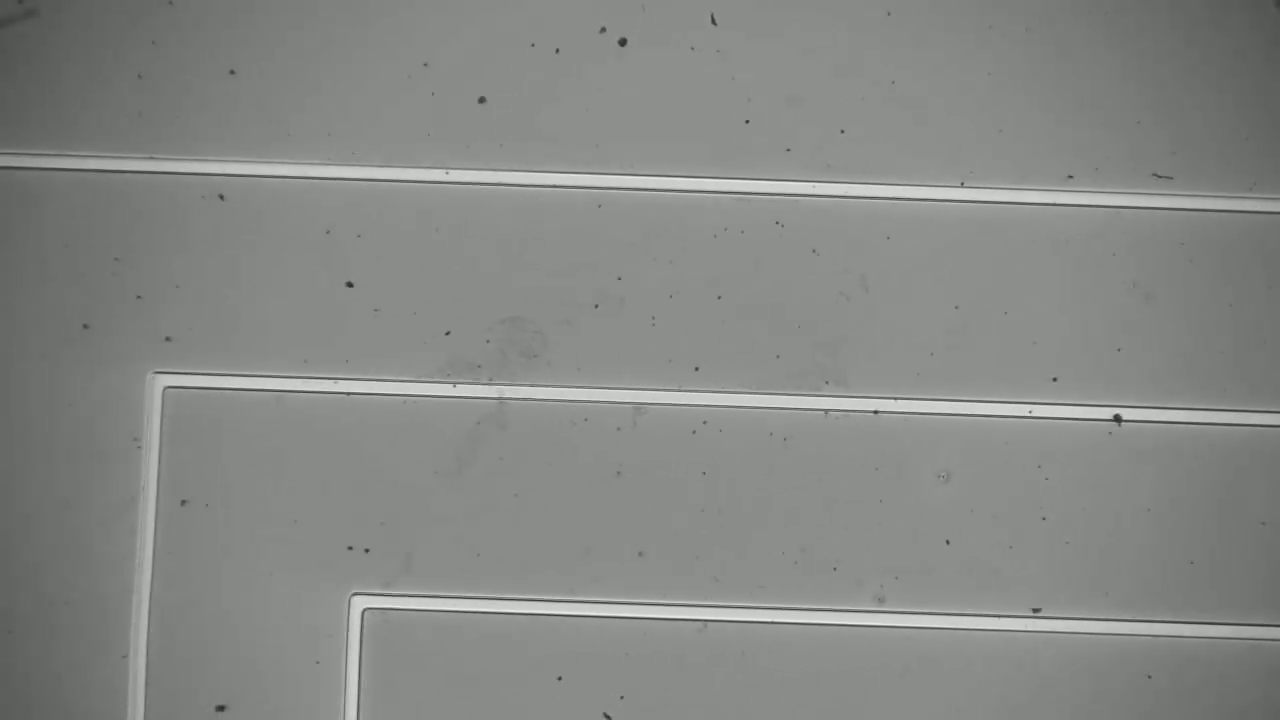stains_enbedded: (1110, 402, 1125, 429)
